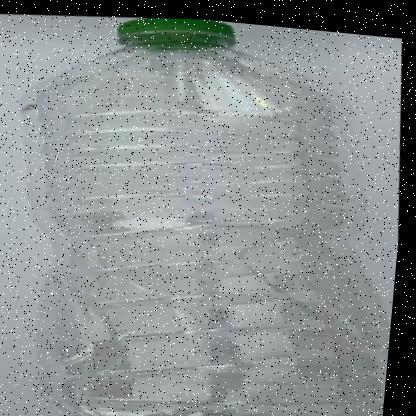bottle cap: (1, 1, 374, 192)
